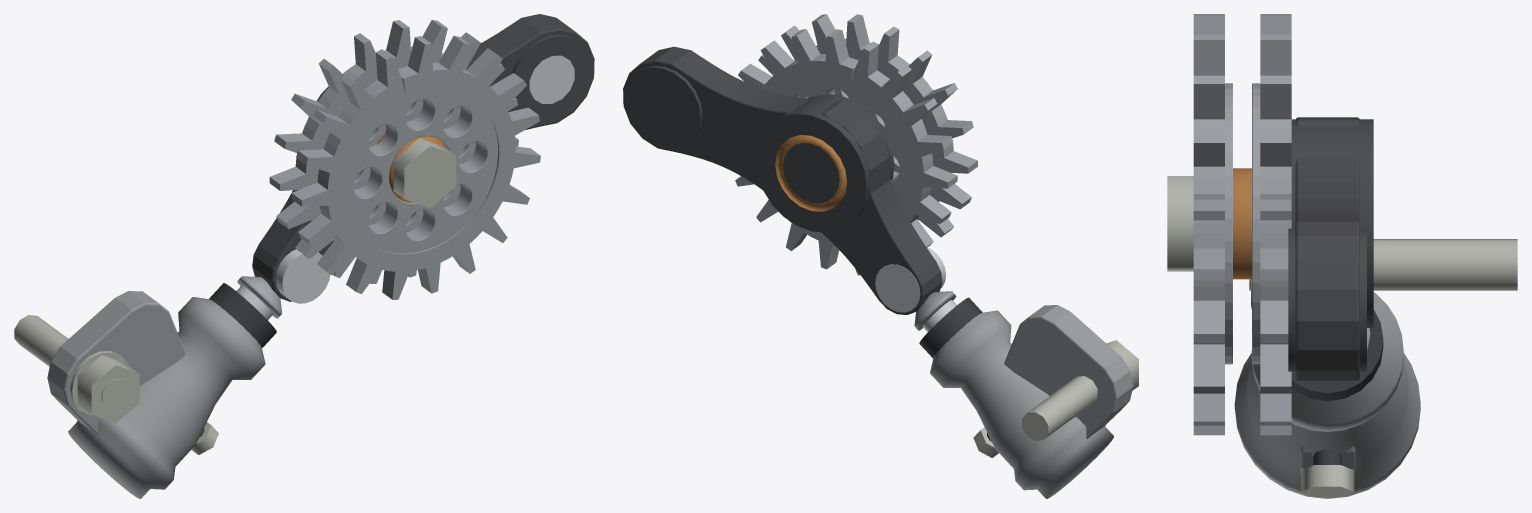
The model's file is chain-tensioner-right.glb.
3 views of the same model, side by side, from view 1: azimuth 30°, elevation 25°; view 2: azimuth 150°, elevation 25°; view 3: azimuth 270°, elevation 25° (orthographic). The views are drawn at different scales.
Parts seen in each view (by area): view 1: chain-tensioner-right:steel, chain-tensioner-right:castAlu, chain-tensioner-right:zincPlate, chain-tensioner-right:forgedDark, chain-tensioner-right:polishedSteel, chain-tensioner-right:darkSteel; view 2: chain-tensioner-right:forgedDark, chain-tensioner-right:steel, chain-tensioner-right:castAlu, chain-tensioner-right:zincPlate, chain-tensioner-right:polishedSteel, chain-tensioner-right:bronze, chain-tensioner-right:darkSteel; view 3: chain-tensioner-right:steel, chain-tensioner-right:forgedDark, chain-tensioner-right:castAlu, chain-tensioner-right:zincPlate, chain-tensioner-right:darkSteel, chain-tensioner-right:bronze.
Part boxes in pixels (bbox=[...]): chain-tensioner-right:steel: bbox=[237, 19, 540, 318]; chain-tensioner-right:castAlu: bbox=[47, 291, 265, 498]; chain-tensioner-right:zincPlate: bbox=[14, 138, 456, 454]; chain-tensioner-right:forgedDark: bbox=[252, 14, 594, 301]; chain-tensioner-right:polishedSteel: bbox=[236, 55, 574, 319]; chain-tensioner-right:darkSteel: bbox=[199, 283, 276, 437]; chain-tensioner-right:forgedDark: bbox=[623, 46, 942, 314]; chain-tensioner-right:steel: bbox=[735, 14, 977, 330]; chain-tensioner-right:castAlu: bbox=[930, 305, 1133, 498]; chain-tensioner-right:zincPlate: bbox=[973, 340, 1138, 457]; chain-tensioner-right:polishedSteel: bbox=[875, 247, 956, 331]; chain-tensioner-right:bronze: bbox=[775, 135, 846, 211]; chain-tensioner-right:darkSteel: bbox=[919, 297, 991, 441]; chain-tensioner-right:steel: bbox=[1193, 14, 1370, 435]; chain-tensioner-right:forgedDark: bbox=[1288, 117, 1373, 380]; chain-tensioner-right:castAlu: bbox=[1234, 292, 1420, 498]; chain-tensioner-right:zincPlate: bbox=[1167, 176, 1517, 497]; chain-tensioner-right:darkSteel: bbox=[1291, 309, 1383, 465]; chain-tensioner-right:bronze: bbox=[1233, 168, 1251, 279].
Size of the model in its own units: 143 by 108 by 53.5.
